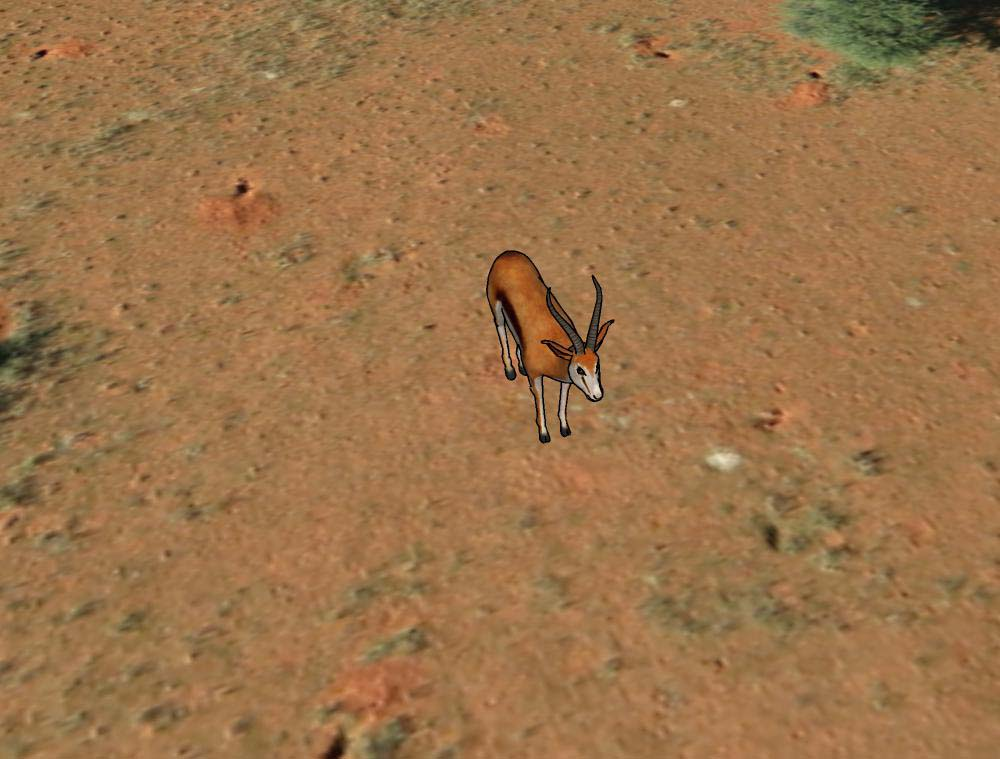springbok: (482, 243, 618, 448)
